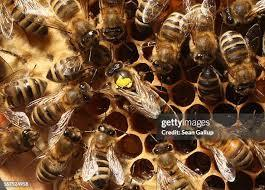Queen-Bee: (103, 60, 188, 130)
worker-bee: (32, 127, 91, 184), (34, 77, 93, 125), (220, 24, 259, 95), (83, 123, 124, 190), (145, 140, 199, 190), (151, 10, 191, 77), (44, 45, 110, 85), (47, 0, 108, 42), (192, 3, 212, 63)
